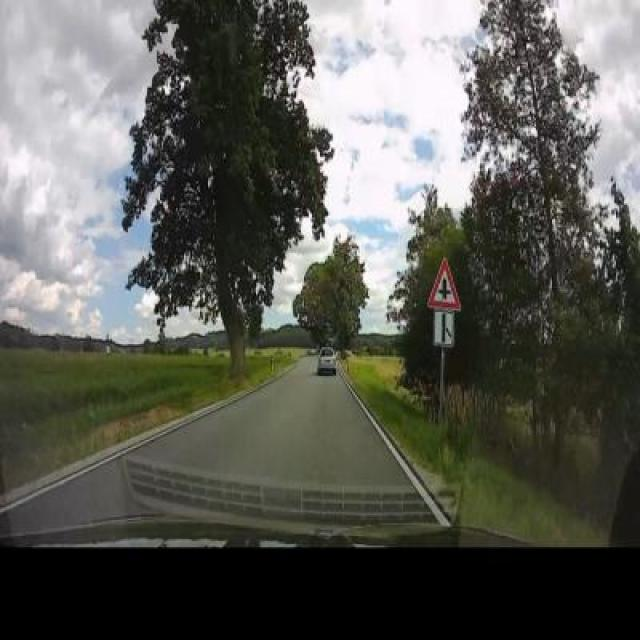clear-road: (135, 356, 410, 485)
